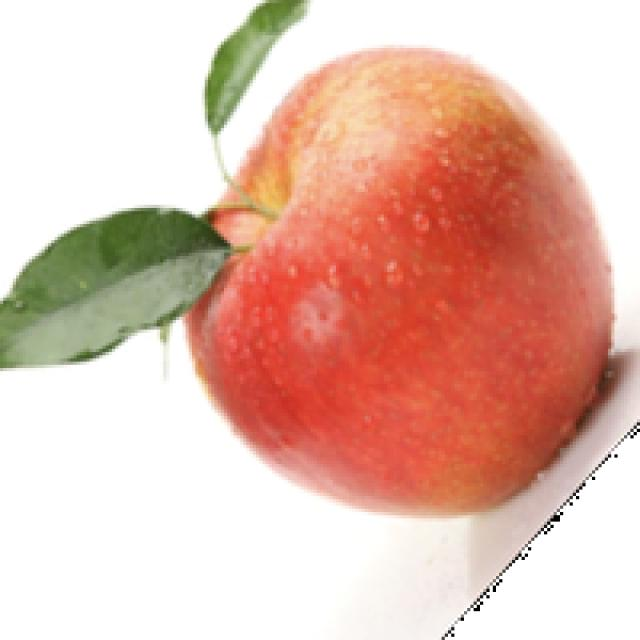apple: (0, 42, 637, 611)
